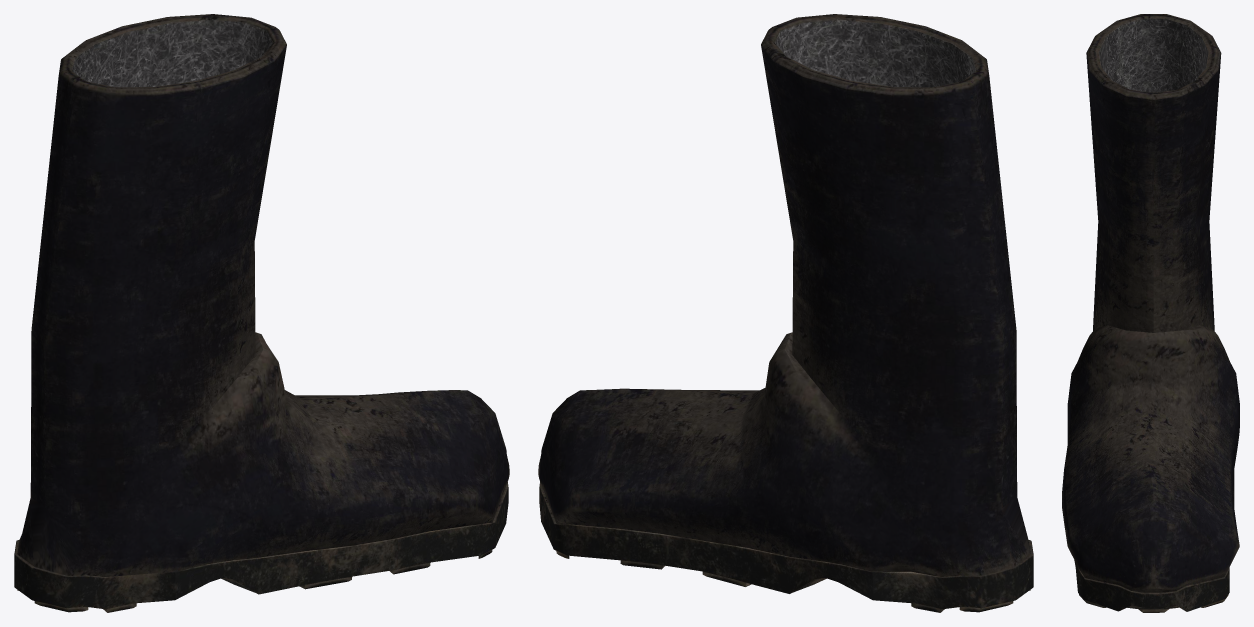
The model's file is BootRigh_LP.glb.
The picture shows the model from 3 angles, left to right: view 1: azimuth 30°, elevation 25°; view 2: azimuth 150°, elevation 25°; view 3: azimuth 270°, elevation 25°; orthographic projection. The views are drawn at different scales.
Visible parts, largest first — view 1: BootRigh_LP; view 2: BootRigh_LP; view 3: BootRigh_LP.
Boxes of the visible parts, x1,y1,x2,y2 form: BootRigh_LP: (14,14,509,612); BootRigh_LP: (538,14,1033,612); BootRigh_LP: (1062,14,1239,612).
Size of the model in its own units: 0.394 by 0.4204 by 0.154.
1 material, 1 textured.
